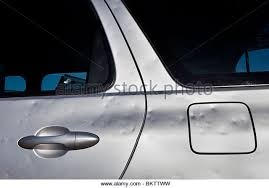Broken-glass: (120, 1, 268, 87)
Dent: (24, 100, 258, 136)
